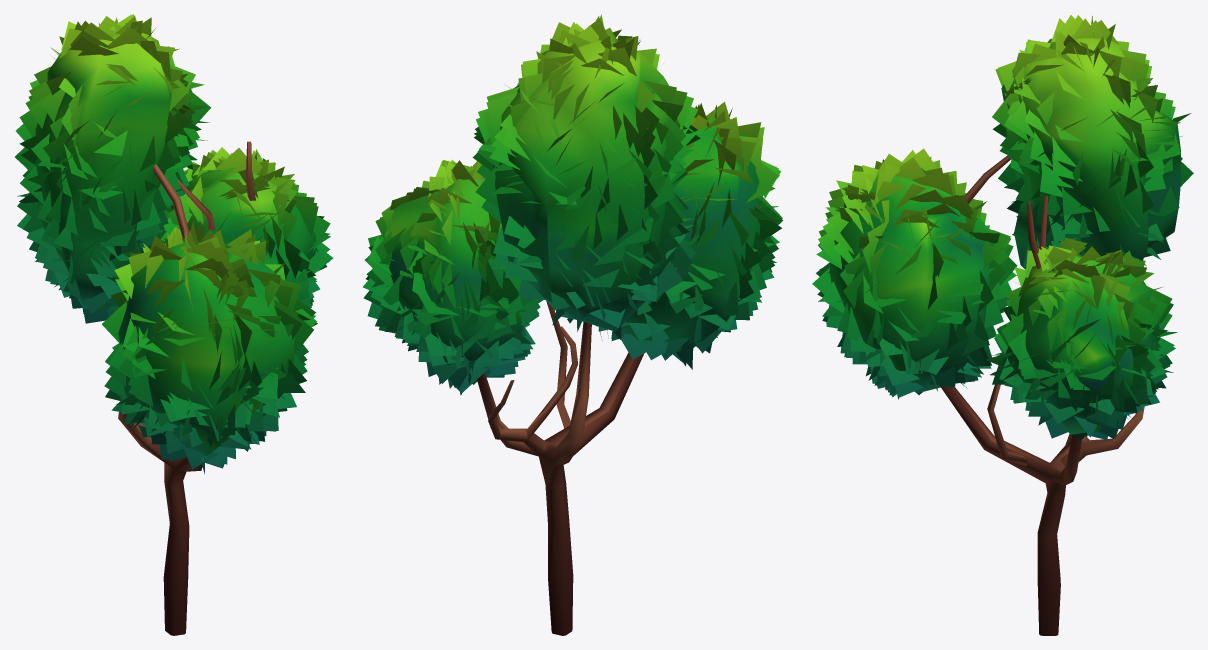
The model's file is Forest_Tree_1B.fbx.
The picture shows the model from 3 angles, left to right: view 1: azimuth 30°, elevation 25°; view 2: azimuth 150°, elevation 25°; view 3: azimuth 270°, elevation 25°; orthographic projection. The views are drawn at different scales.
Parts seen in each view (by area): view 1: Forest_Tree_1B; view 2: Forest_Tree_1B; view 3: Forest_Tree_1B.
Part boxes in pixels (x1,y1,x2,y2): Forest_Tree_1B: (15, 14, 333, 635); Forest_Tree_1B: (363, 14, 783, 635); Forest_Tree_1B: (812, 15, 1193, 635).
Size of the model in its own units: 299 by 590 by 350.
